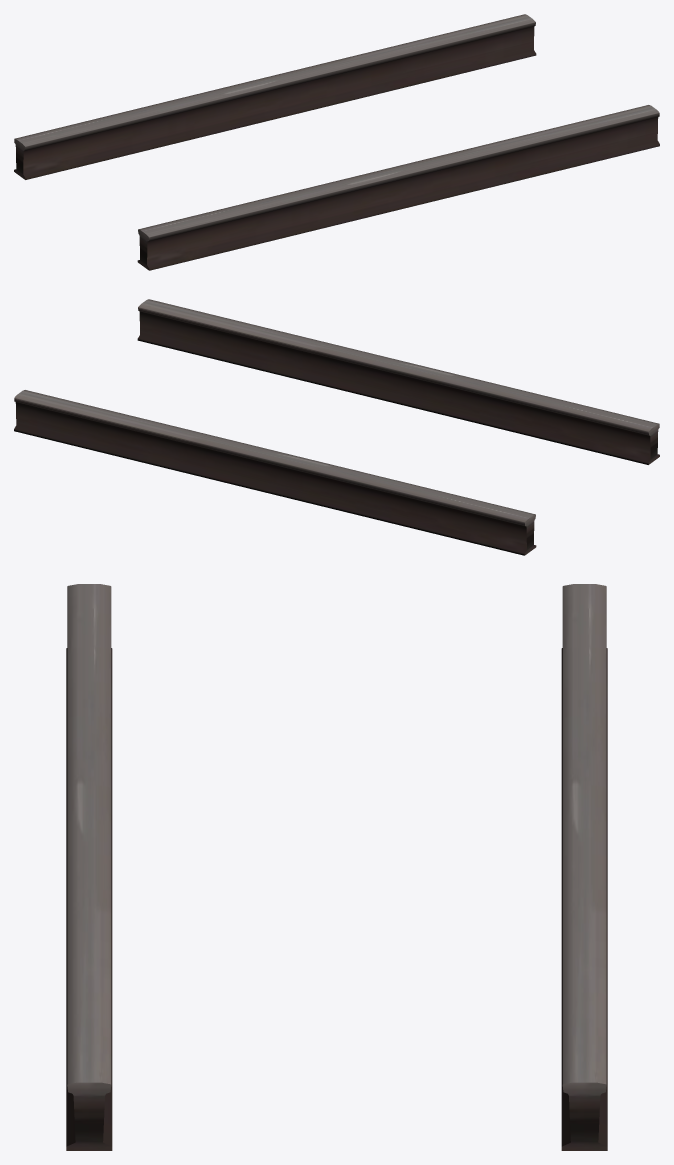
The picture shows the model from 3 angles, top to bottom: view 1: azimuth 30°, elevation 25°; view 2: azimuth 150°, elevation 25°; view 3: azimuth 270°, elevation 25°; orthographic projection. The views are drawn at different scales.
Visible parts, largest first — view 1: body0_model0_lod0_mesh0; view 2: body0_model0_lod0_mesh0; view 3: body0_model0_lod0_mesh0.
Boxes of the visible parts, x1=… form: body0_model0_lod0_mesh0: x1=14, y1=14, x2=659, y2=270; body0_model0_lod0_mesh0: x1=14, y1=299, x2=659, y2=555; body0_model0_lod0_mesh0: x1=66, y1=584, x2=607, y2=1150.
Size of the model in its own units: 64 by 4.09 by 29.37.
Materials: 1 (1 with a texture image).
